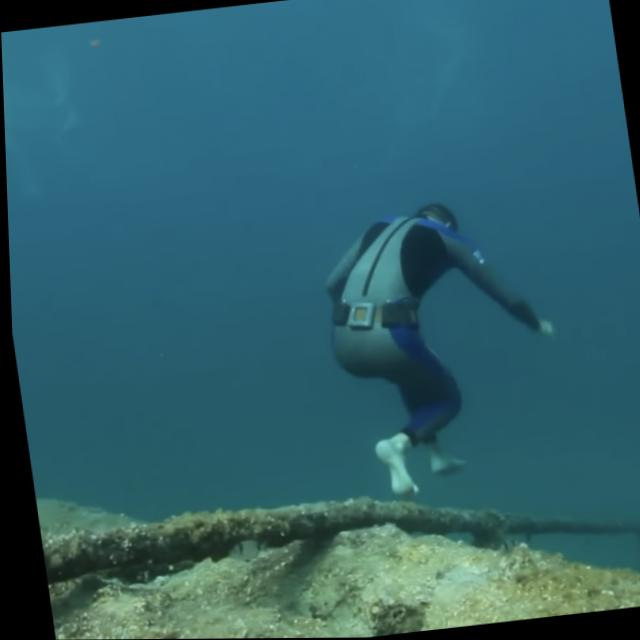human: (293, 179, 583, 507)
